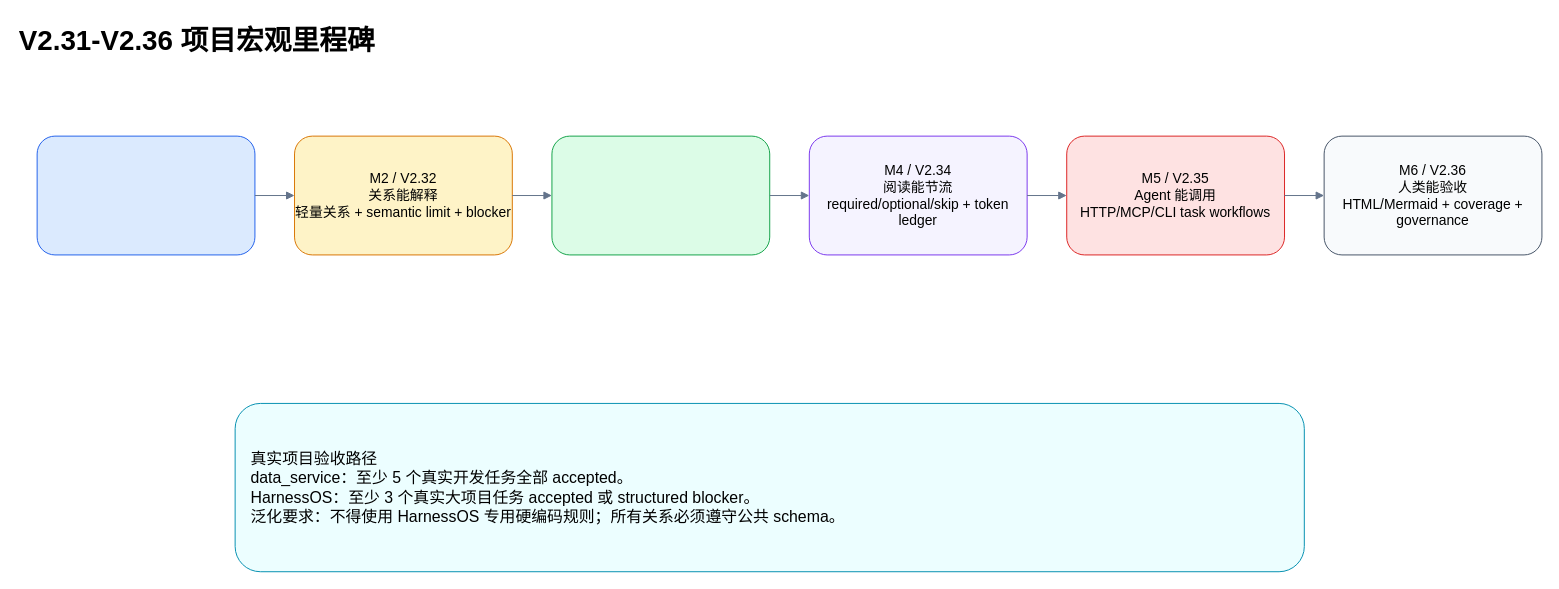
Image size: 1559x589. Some labels were removed from this diagram. The centre of each missing label's shape, as x and y in pixels:
M1 / V2.31 任务能导航 输入任务 → surfaces / symbols / tests / docs 候选: point (145, 195)
M3 / V2.33 影响能评估 impacted files/surfaces/tests/guardrails: point (660, 195)
